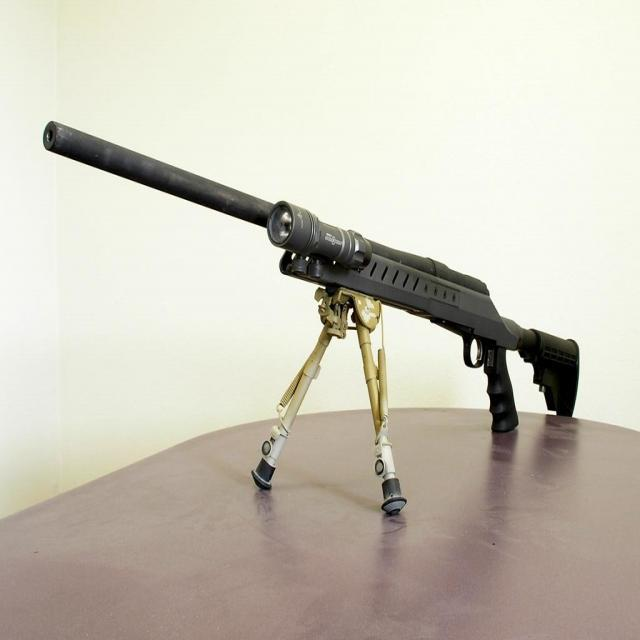weapon: (42, 120, 580, 516)
